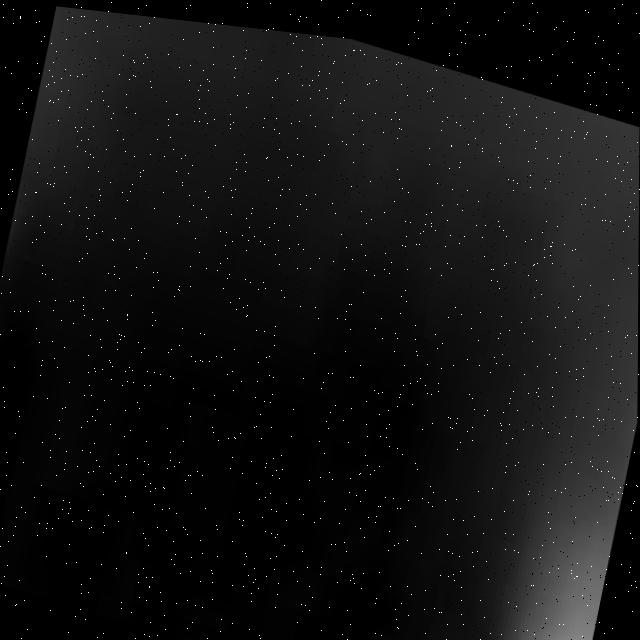person: (502, 317, 639, 640)
